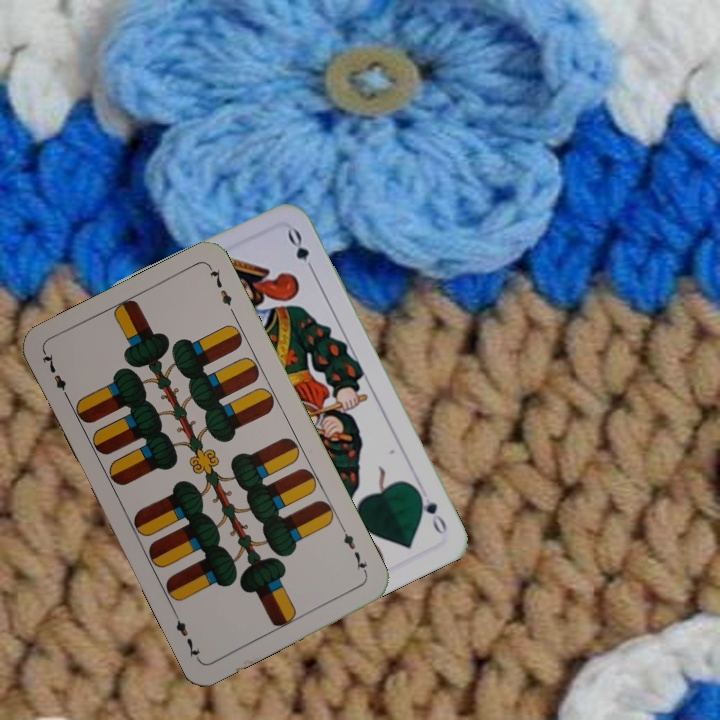E7: (38, 348, 73, 403), (337, 523, 371, 578)
GO: (412, 485, 450, 537)
